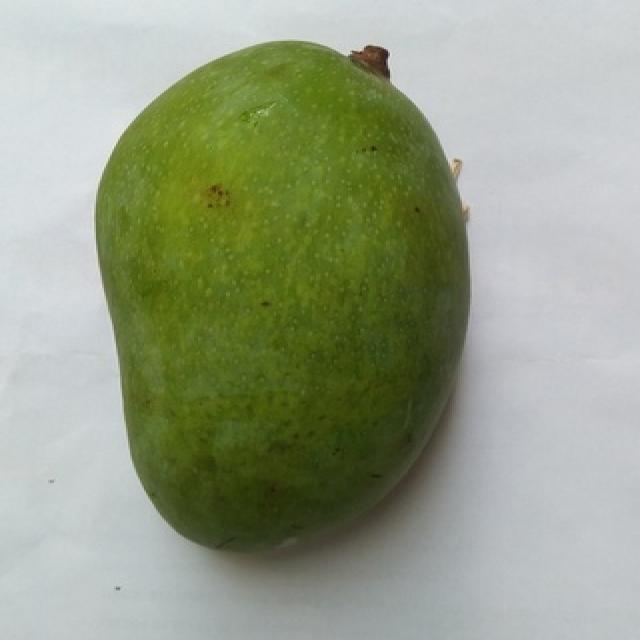Mango: (96, 41, 466, 550)
